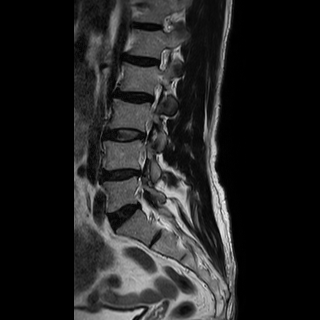RFS0: (150, 40, 173, 76)
